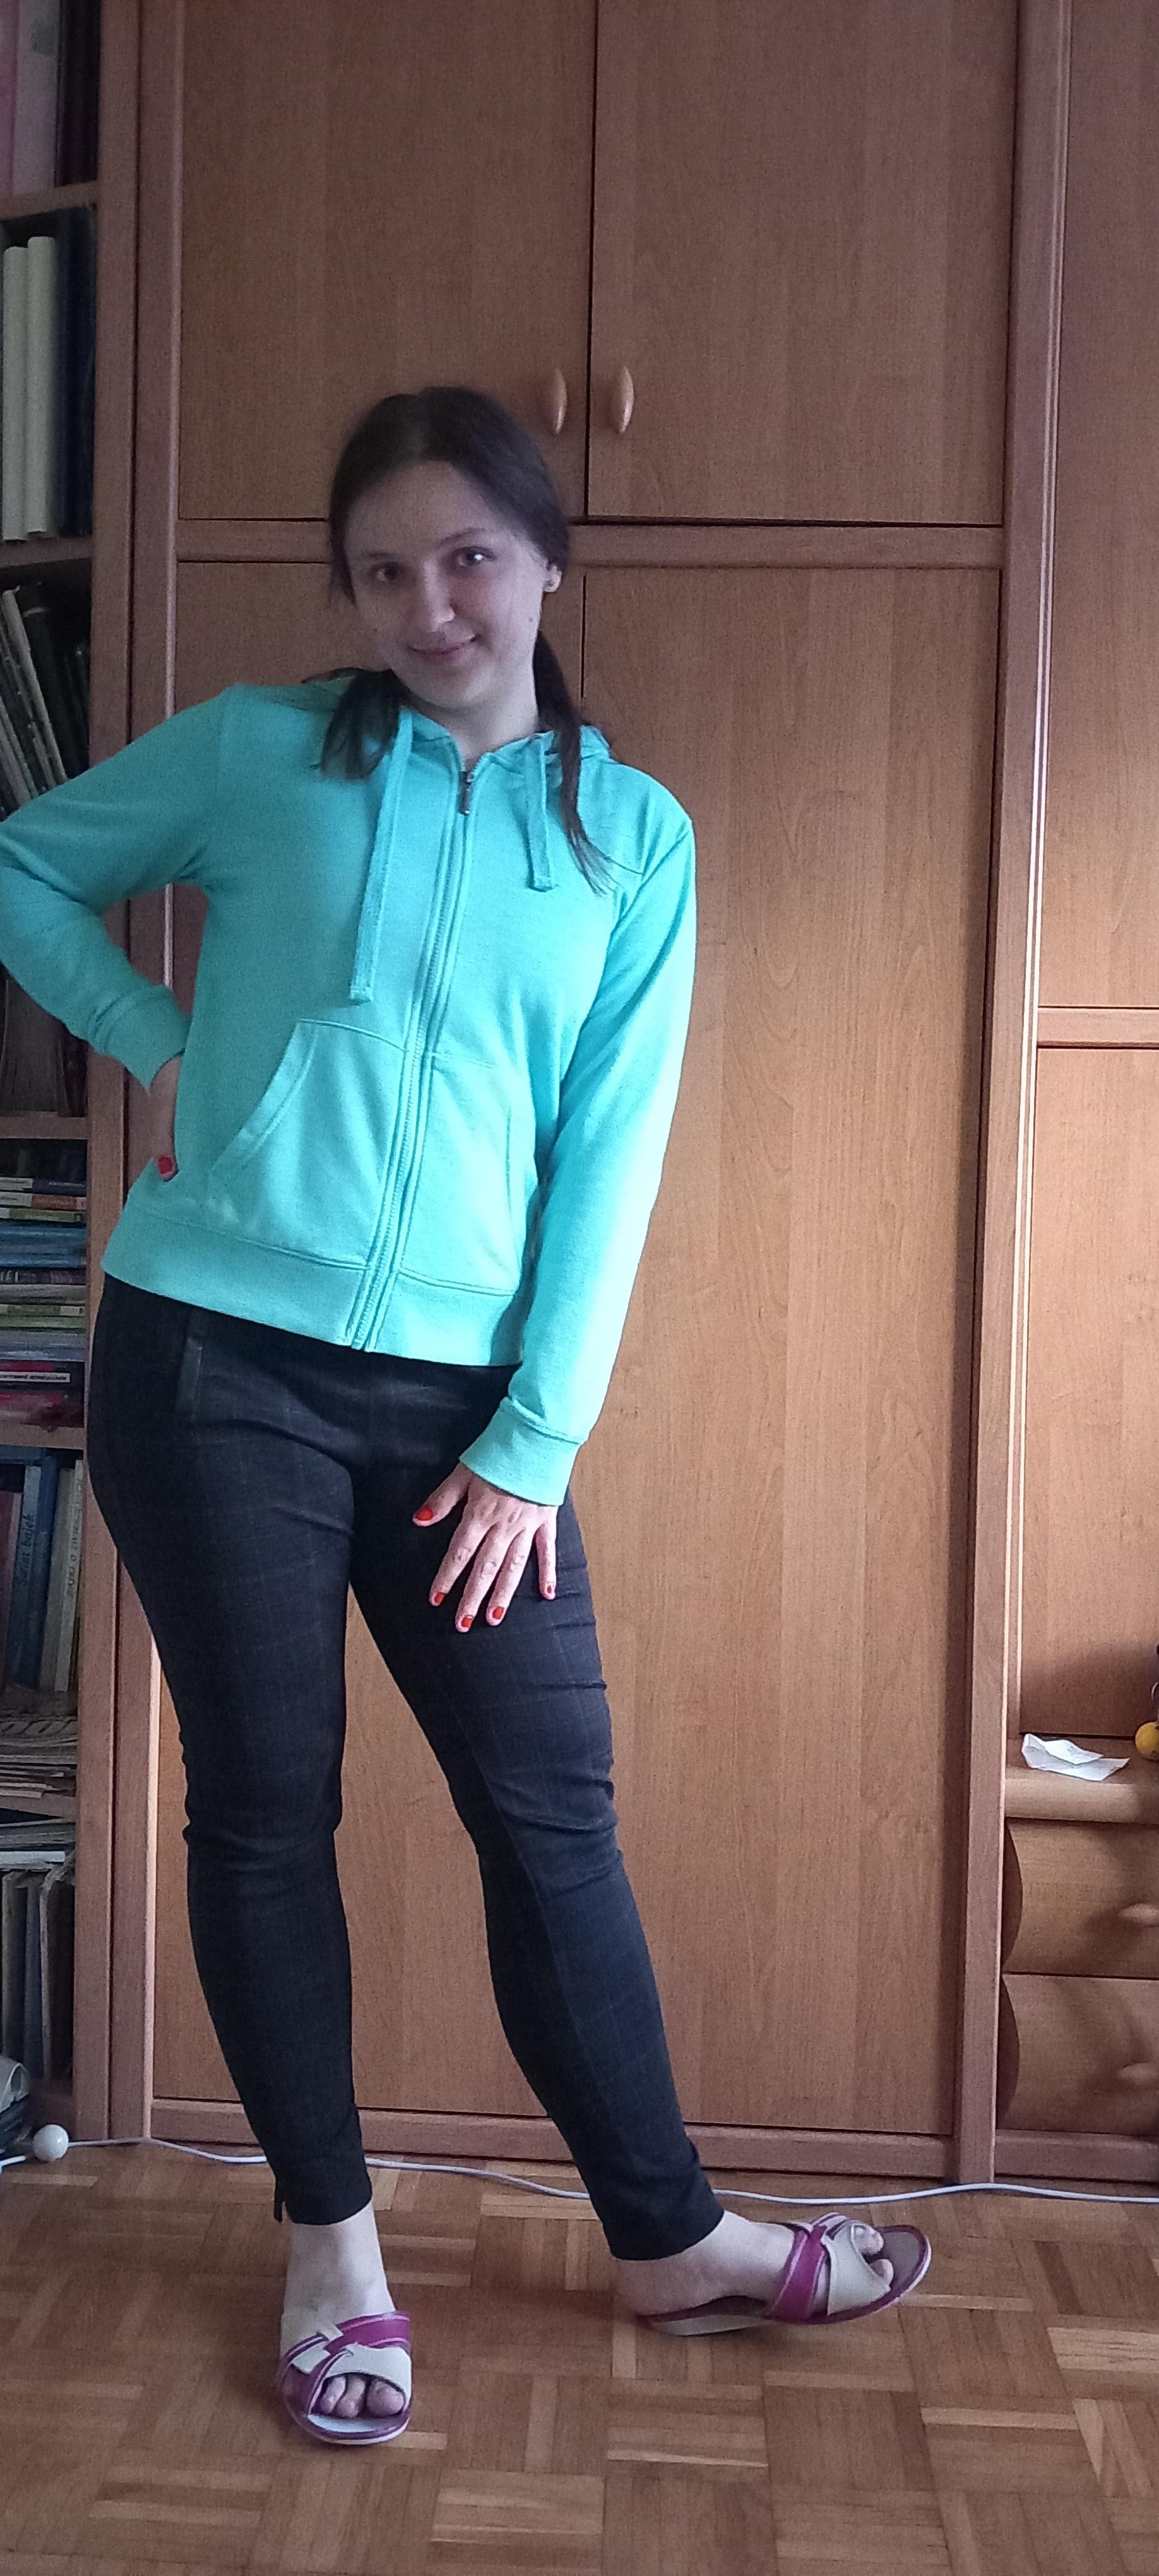pants: (85, 1273, 724, 2261)
sweater: (0, 678, 696, 1508)
